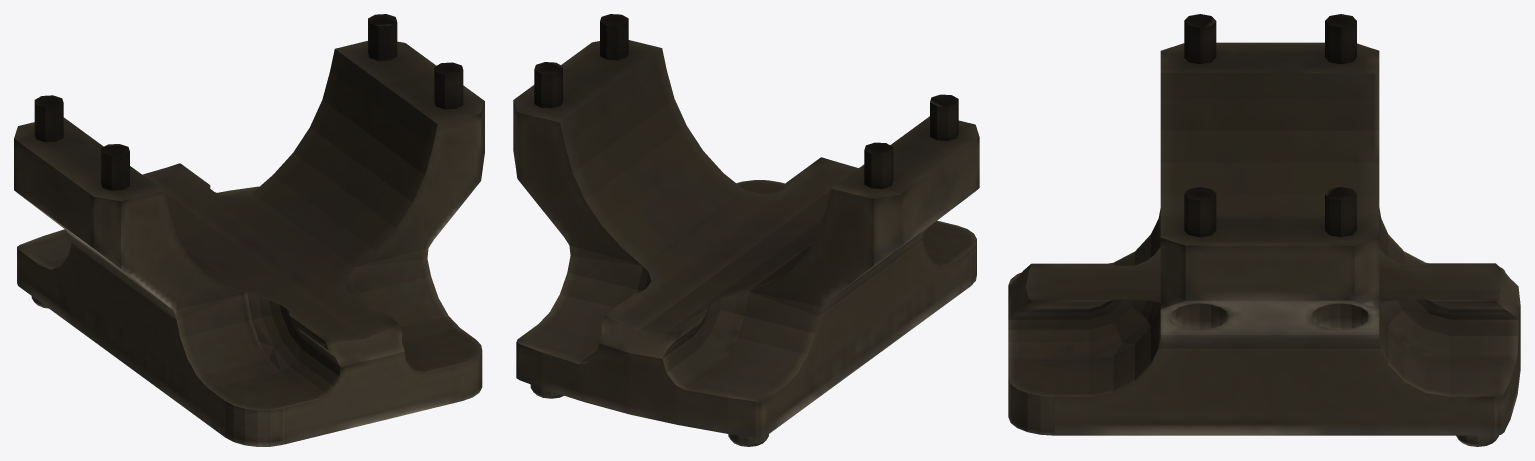
3 renders of one model, left to right at view 1: azimuth 30°, elevation 25°; view 2: azimuth 150°, elevation 25°; view 3: azimuth 270°, elevation 25°, orthographic. The views are drawn at different scales.
Visible parts, largest first — view 1: TW_618ba92152ecee1505530bd3_PZ_Import; view 2: TW_618ba92152ecee1505530bd3_PZ_Import; view 3: TW_618ba92152ecee1505530bd3_PZ_Import.
Part boxes in pixels (left/top/right/bottom): TW_618ba92152ecee1505530bd3_PZ_Import: left=14, top=14, right=484, bottom=446; TW_618ba92152ecee1505530bd3_PZ_Import: left=513, top=14, right=979, bottom=446; TW_618ba92152ecee1505530bd3_PZ_Import: left=1008, top=14, right=1520, bottom=446.
Bounding box in the file's own units: 0.0252 × 0.0269 × 0.0163.
Materials: 1 (1 with a texture image).
